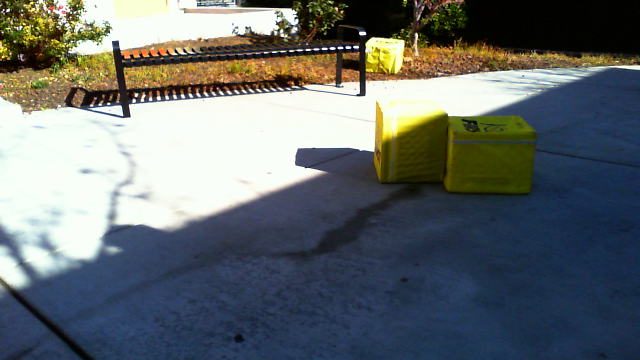cube: (444, 114, 535, 194), (375, 99, 446, 183), (364, 36, 405, 74)
